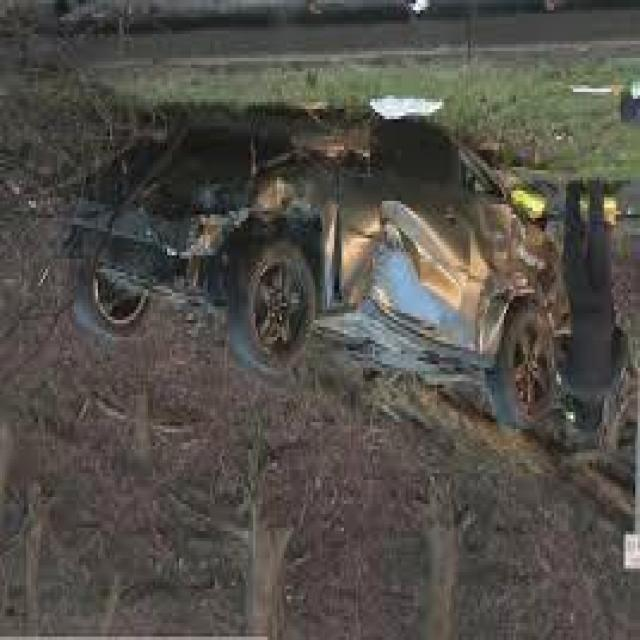severe: (52, 114, 564, 444)
